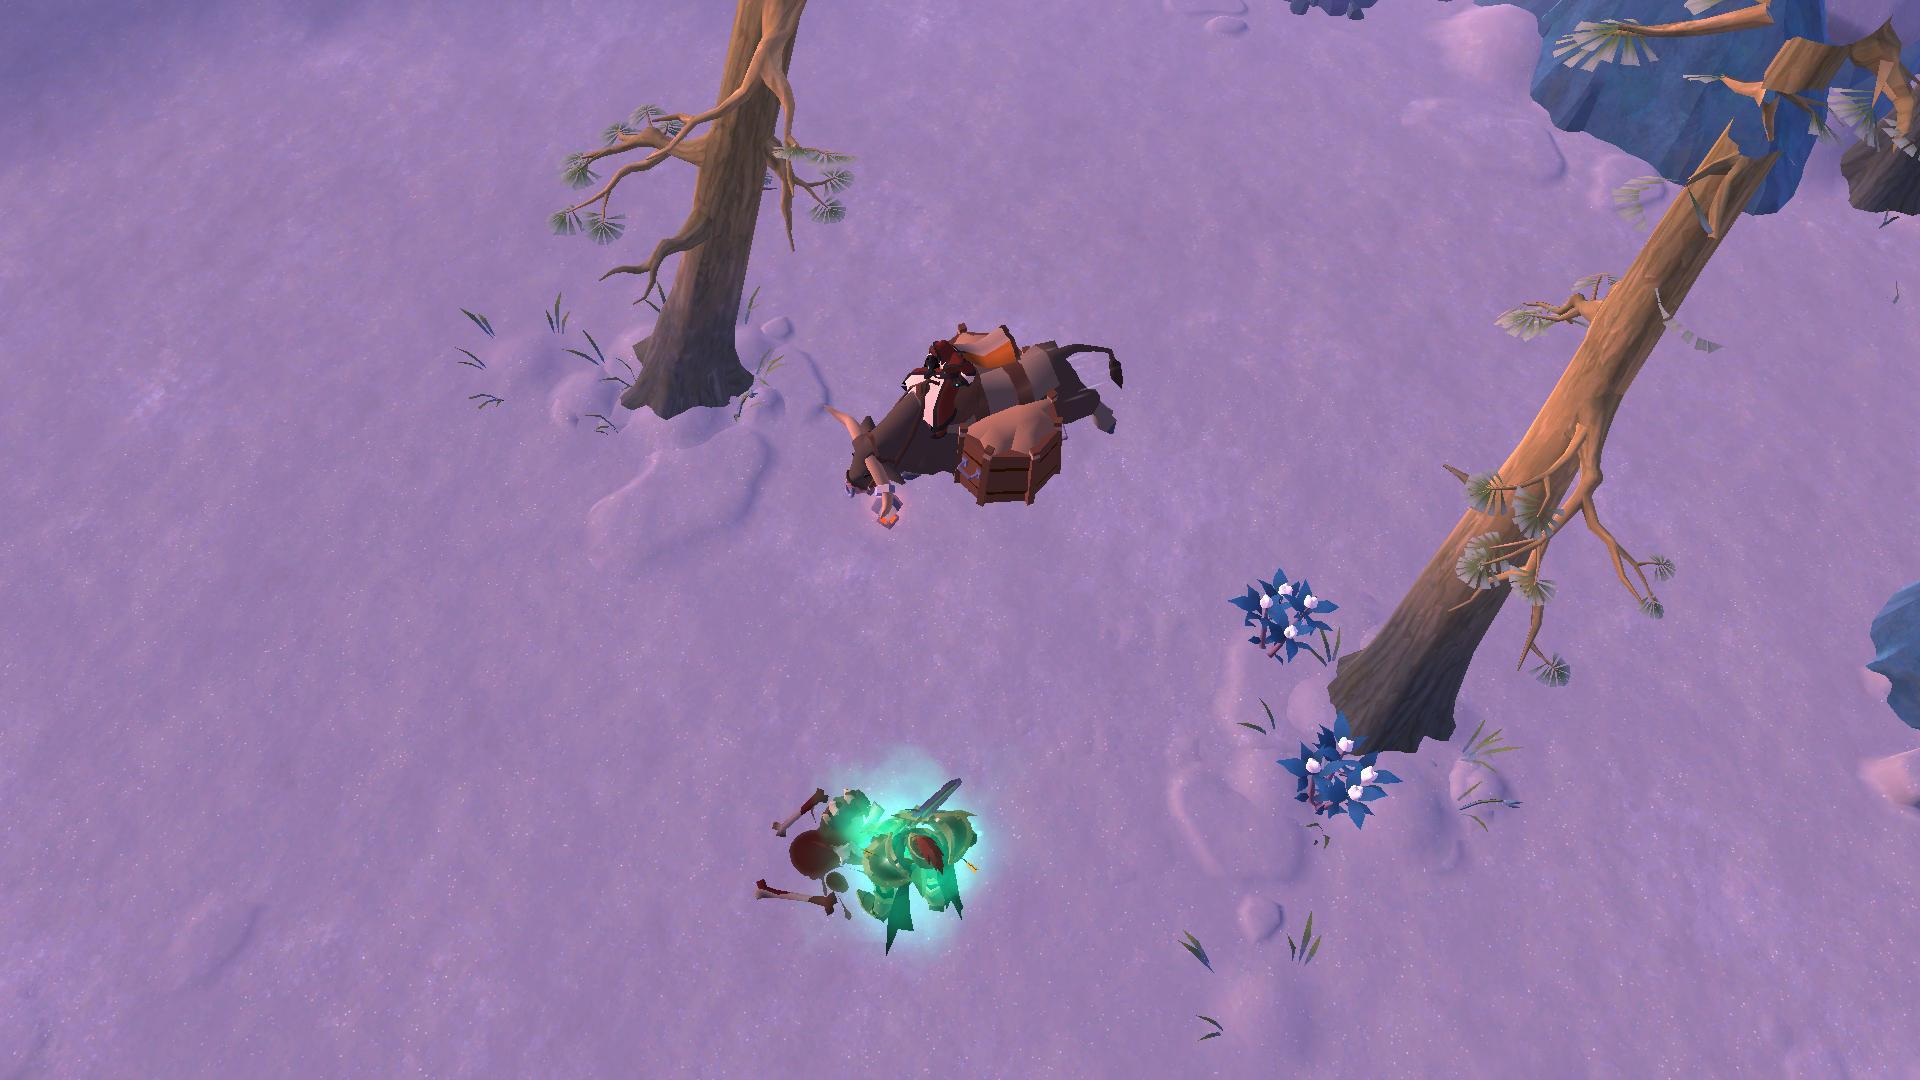fiber_t4: (1280, 716, 1399, 822), (1229, 564, 1332, 659)
